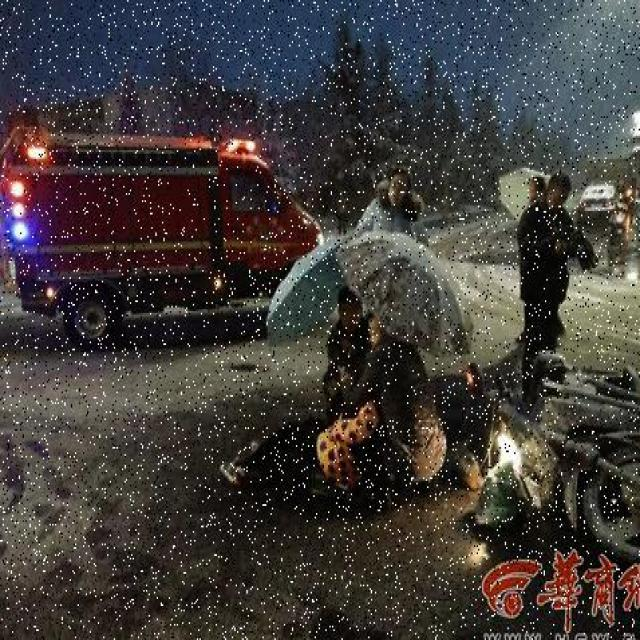fall: (217, 409, 440, 486)
